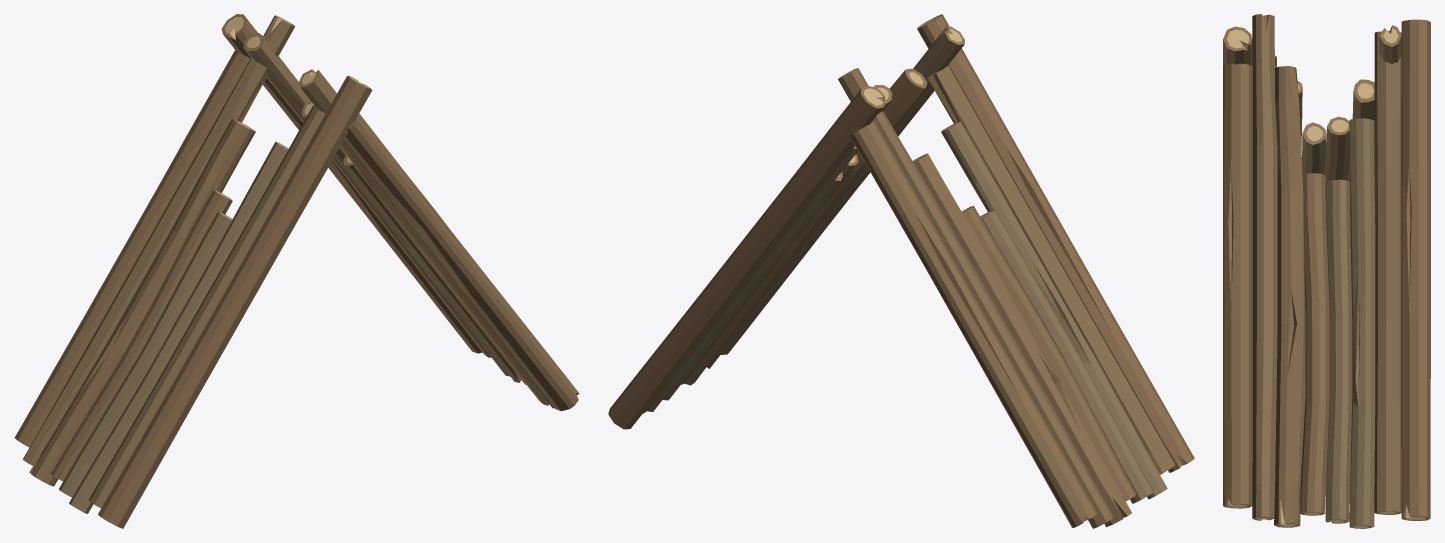
The model's file is rpgpp_ag_roof_01_6x5x3_chimney_01.fbx.
3 renders of one model, left to right at view 1: azimuth 30°, elevation 25°; view 2: azimuth 150°, elevation 25°; view 3: azimuth 270°, elevation 25°, orthographic.
Visible parts, largest first — view 1: rpgpp_ag_roof_01_6x5x3_chimney_01; view 2: rpgpp_ag_roof_01_6x5x3_chimney_01; view 3: rpgpp_ag_roof_01_6x5x3_chimney_01.
Part boxes in pixels (bbox=[...]): rpgpp_ag_roof_01_6x5x3_chimney_01: bbox=[14, 14, 579, 528]; rpgpp_ag_roof_01_6x5x3_chimney_01: bbox=[608, 14, 1194, 528]; rpgpp_ag_roof_01_6x5x3_chimney_01: bbox=[1223, 14, 1430, 528].
Size of the model in its own units: 8.12 by 6.36 by 3.
